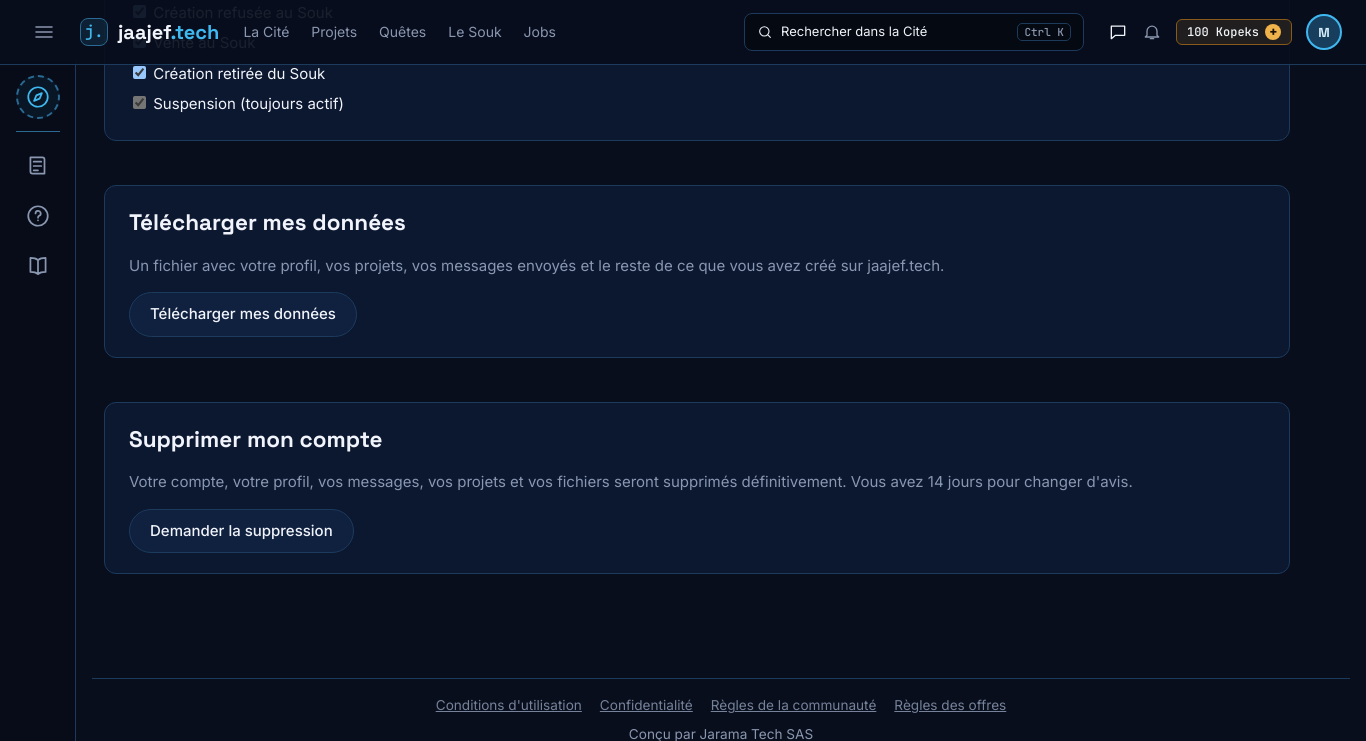
Test: Settings › a refusal from the server is shown in French and the page refreshes
(page scrolled)
Click the button "Demander la suppression".
click(241, 531)  # box [129, 509, 354, 553]
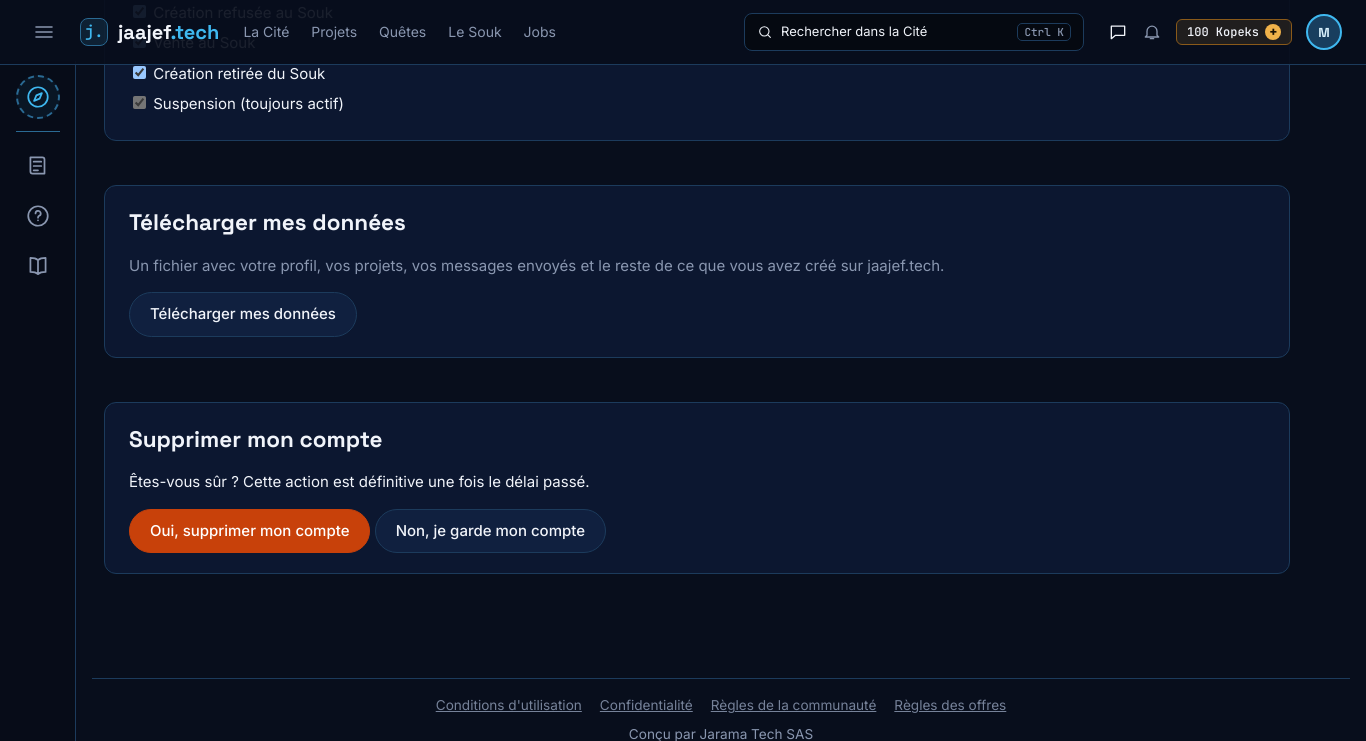
Click the button "Oui, supprimer mon compte".
click(250, 531)  # box [129, 509, 370, 553]
(page scrolled)
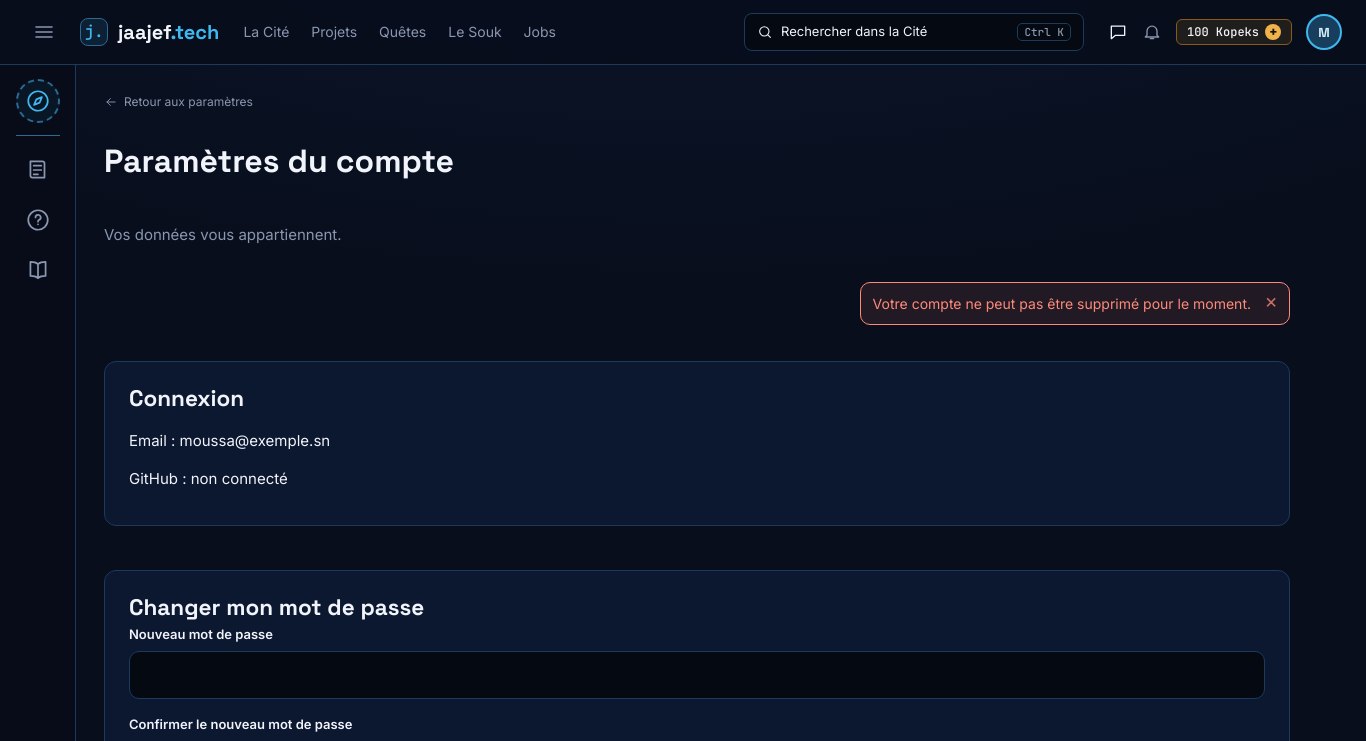
Result: the message shows "ne peut pas être supprimé" at [873, 294, 1251, 312]
